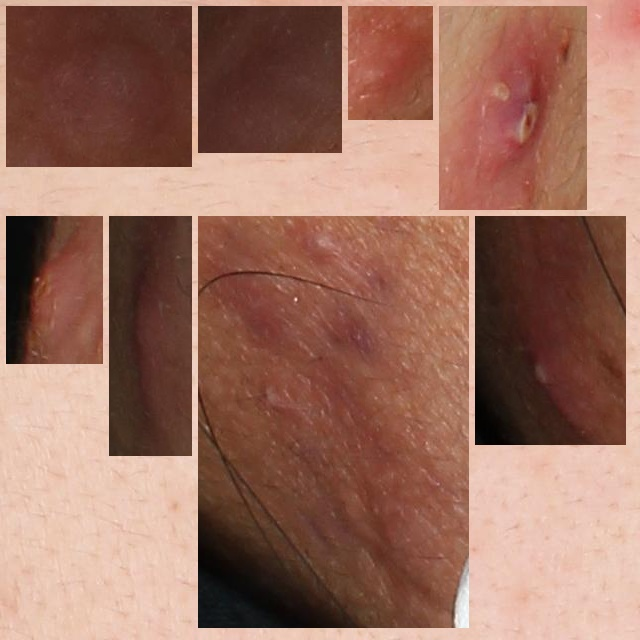nodule: (206, 224, 461, 620), (483, 224, 618, 437), (447, 14, 579, 202), (14, 14, 184, 159), (206, 14, 334, 145), (117, 224, 184, 448), (14, 224, 95, 356), (356, 14, 425, 112)
